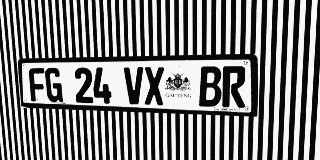2: (74, 67, 93, 103)
4: (92, 67, 112, 104)
B: (199, 66, 222, 107)
F: (28, 68, 46, 102)
G: (45, 68, 63, 102)
R: (222, 66, 246, 108)
V: (124, 67, 144, 105)
X: (144, 67, 165, 105)
